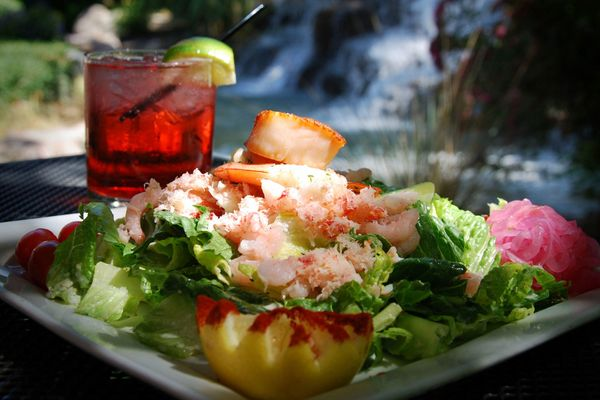pizza: (83, 45, 229, 200)
